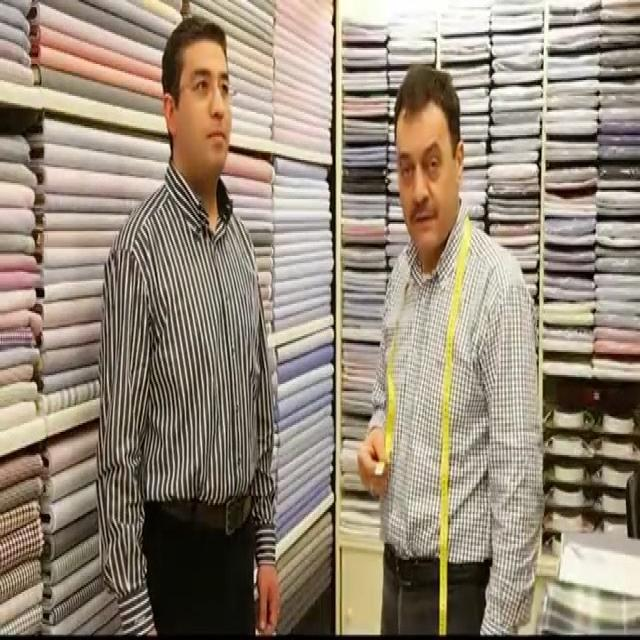Shirt: (96, 154, 274, 640), (367, 197, 543, 636)
